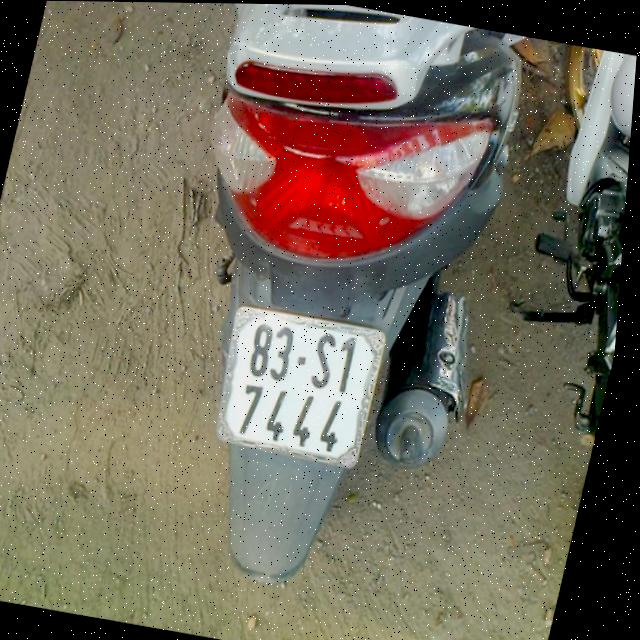motorcycle: (82, 2, 564, 612)
plate: (201, 299, 395, 472)
